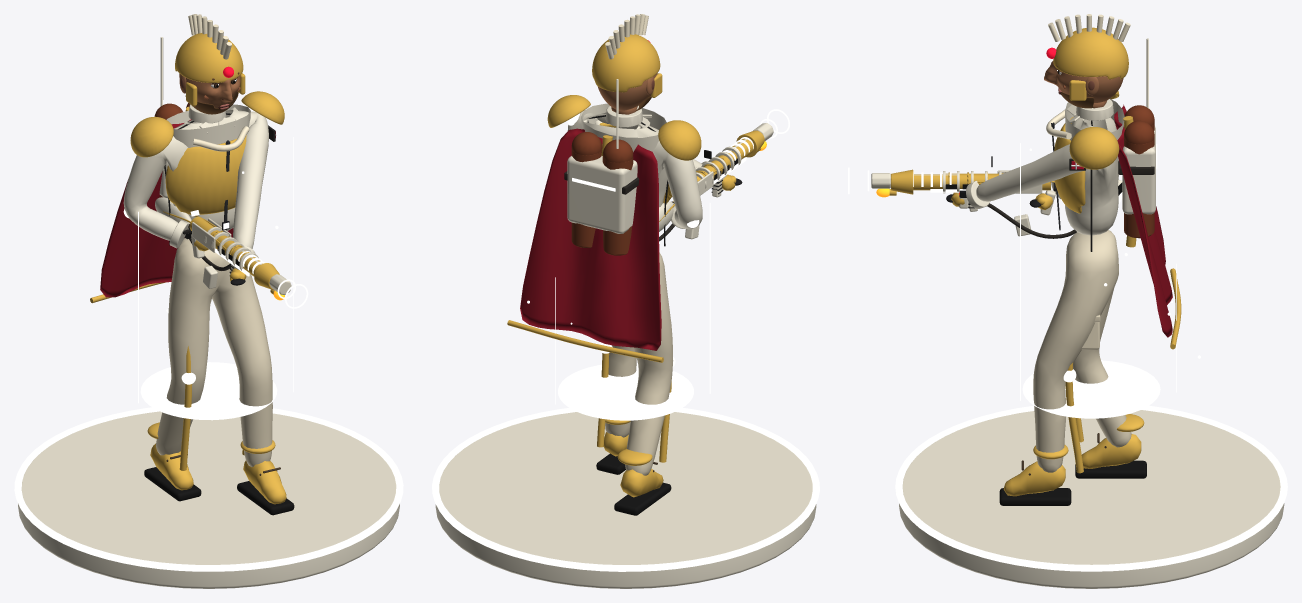
The model's file is braender_guld.glb.
The picture shows the model from 3 angles, left to right: view 1: azimuth 30°, elevation 25°; view 2: azimuth 150°, elevation 25°; view 3: azimuth 270°, elevation 25°; orthographic projection.
Parts seen in each view (by area): view 1: fod_net, menneske_net, op2.001_net, hoved_net, op4.001_net, vaaben_net, op4.002_net, op3_net, op4_net, op2_net; view 2: fod_net, op2.001_net, menneske_net, op4.001_net, hoved_net, op3.001_net, vaaben_net, op4.002_net, op4_net; view 3: fod_net, menneske_net, op2.001_net, hoved_net, op4.001_net, vaaben_net, op3.001_net, op4.002_net.
Boxes of the visible parts, box(x1,y1,x2,y2) form: fod_net: box(14, 407, 403, 588); menneske_net: box(123, 103, 294, 515); op2.001_net: box(90, 91, 284, 303); hoved_net: box(175, 14, 245, 114); op4.001_net: box(138, 137, 293, 420); vaaben_net: box(155, 197, 284, 300); op4.002_net: box(123, 106, 255, 470); op3_net: box(190, 210, 291, 294); op4_net: box(215, 248, 308, 308); op2_net: box(163, 211, 234, 288); fod_net: box(432, 408, 819, 588); op2.001_net: box(507, 95, 701, 362); menneske_net: box(564, 103, 742, 515); op4.001_net: box(527, 203, 710, 420); hoved_net: box(592, 14, 662, 111); op3.001_net: box(567, 79, 637, 233); vaaben_net: box(659, 130, 766, 231); op4.002_net: box(567, 113, 699, 462); op4_net: box(713, 109, 789, 183); fod_net: box(895, 405, 1287, 588); menneske_net: box(946, 99, 1154, 505); op2.001_net: box(1046, 91, 1181, 349); hoved_net: box(1044, 14, 1130, 108); op4.001_net: box(1020, 143, 1200, 418); vaaben_net: box(876, 169, 1122, 215); op3.001_net: box(1122, 38, 1157, 214); op4.002_net: box(1063, 116, 1136, 473).
Size of the model in its own units: 1.94 by 2.69 by 2.17.
